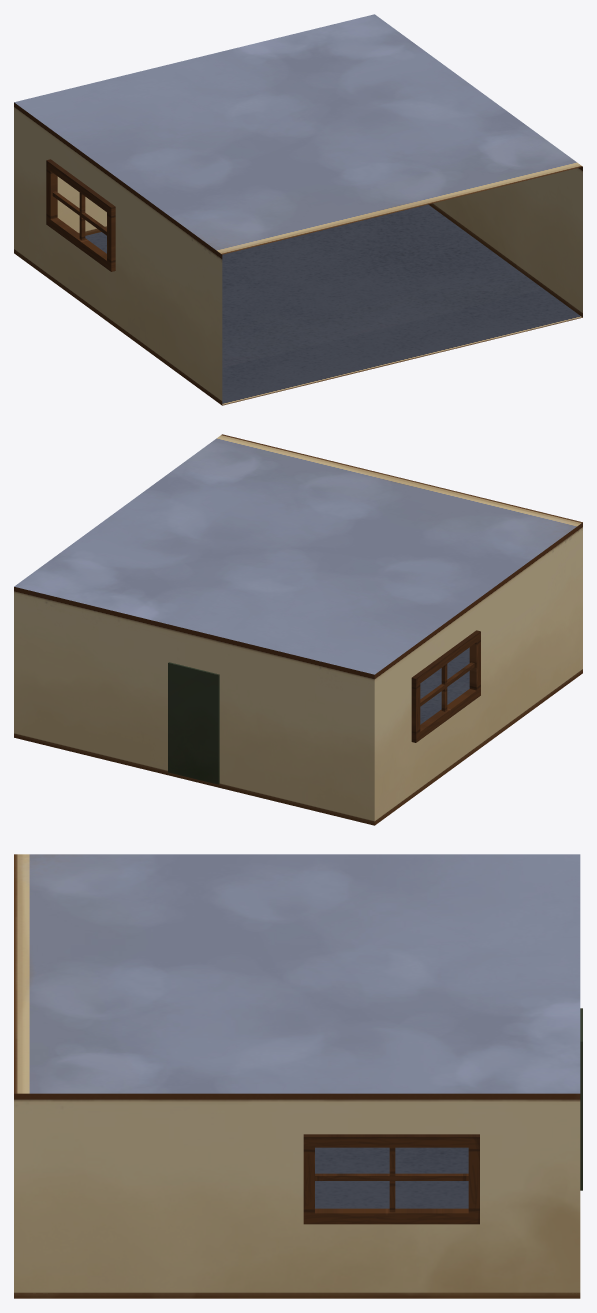
File: Office.fbx
3 renders of one model, top to bottom at view 1: azimuth 30°, elevation 25°; view 2: azimuth 150°, elevation 25°; view 3: azimuth 270°, elevation 25°, orthographic. The views are drawn at different scales.
Parts seen in each view (by area): view 1: Cube; view 2: Cube; view 3: Cube.
Boxes of the visible parts, x1,y1,x2,y2 form: Cube: [14, 14, 582, 405]; Cube: [14, 434, 582, 825]; Cube: [14, 854, 582, 1298].
Bounding box in the file's own units: 512 × 200 × 502.
Materials: 1 (1 with a texture image).
